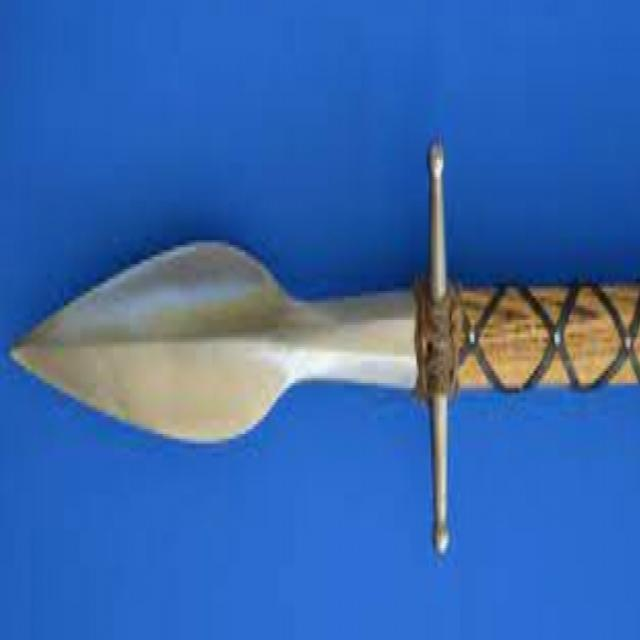spear: (1, 124, 637, 564)
